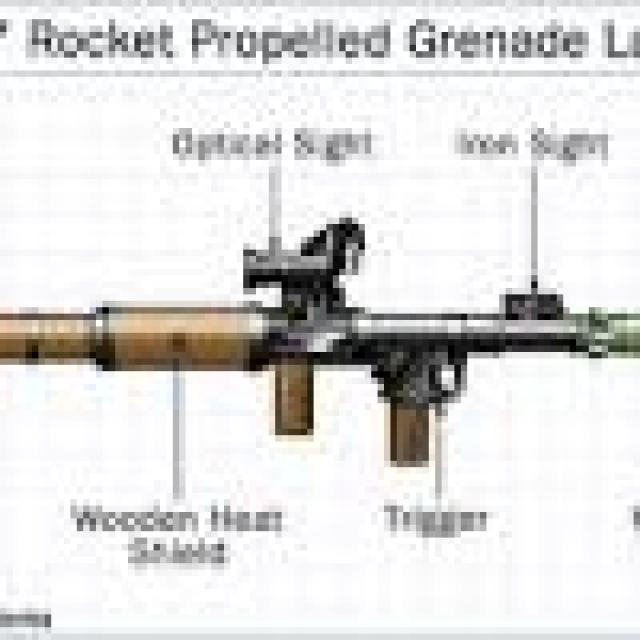Gun: (0, 211, 640, 492)
